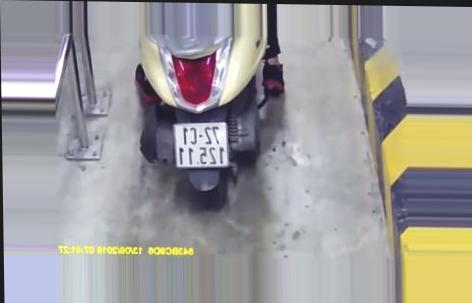License_Plate: (169, 119, 236, 171)
